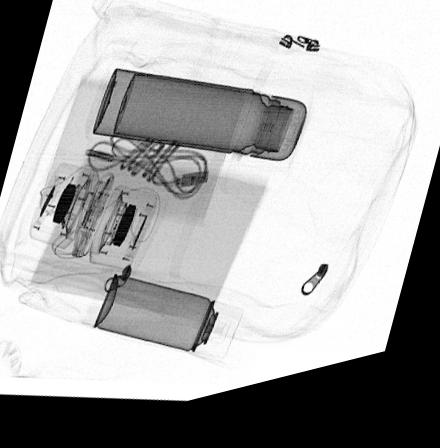Sprayer: (92, 277, 244, 369)
